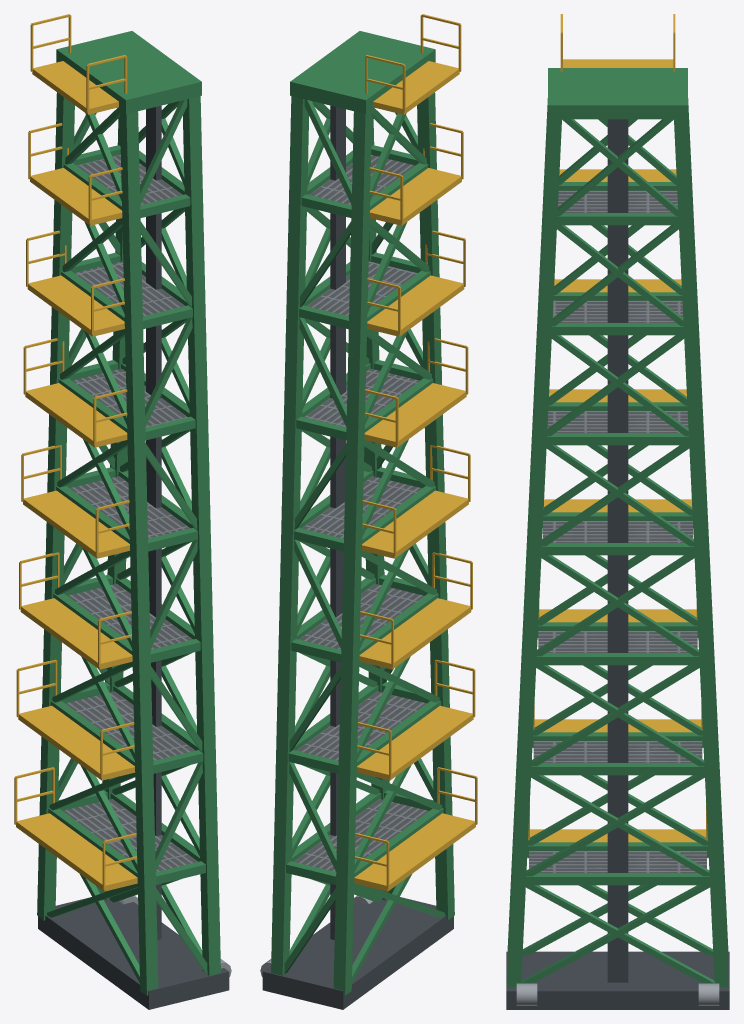
Rendered from soyuz_gantry.glb.
The picture shows the model from 3 angles, left to right: view 1: azimuth 30°, elevation 25°; view 2: azimuth 150°, elevation 25°; view 3: azimuth 270°, elevation 25°; orthographic projection.
Parts seen in each view (by area): view 1: body, foot; view 2: body, foot; view 3: body, foot.
Part boxes in pixels (box(x1,y1,x2,y2)): body: box(14, 14, 220, 995); foot: box(38, 895, 231, 1009); body: box(271, 14, 477, 995); foot: box(260, 895, 453, 1009); body: box(507, 14, 728, 987); foot: box(506, 951, 729, 1009).
Size of the model in its own units: 2.74 by 19.97 by 4.3.
Materials: 5 (1 with a texture image).
